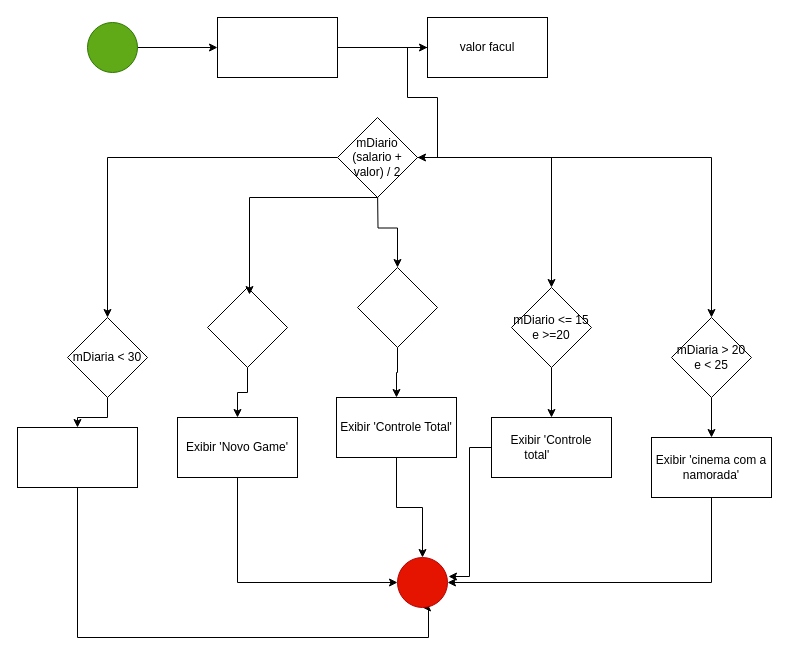
The diagram is 789 pixels wide and 663 high, and some of its shapes have lost their labels. The centre of each missing label's shape, as x and y in pixels:
"Exibir 'to bonito'" goes at (x=77, y=457).
"mDiaria <= 25 e >= 30" goes at (x=247, y=327).
"media < 15" goes at (x=397, y=307).
"salário" goes at (x=277, y=47).
